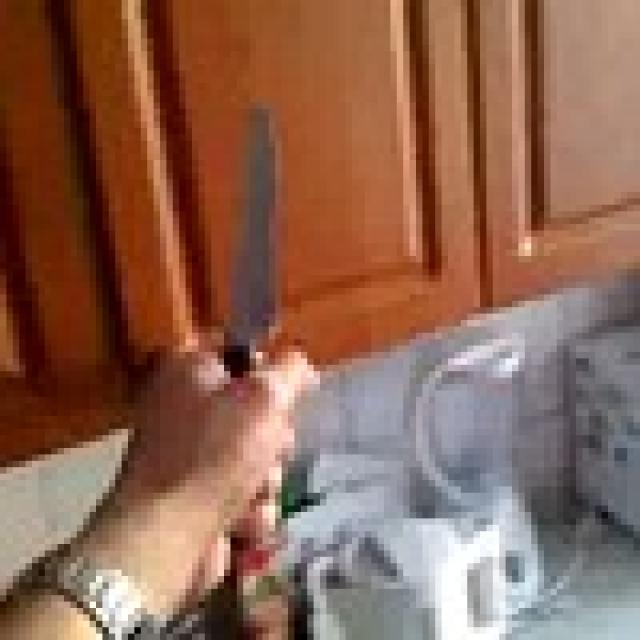Knife: (211, 96, 307, 378)
